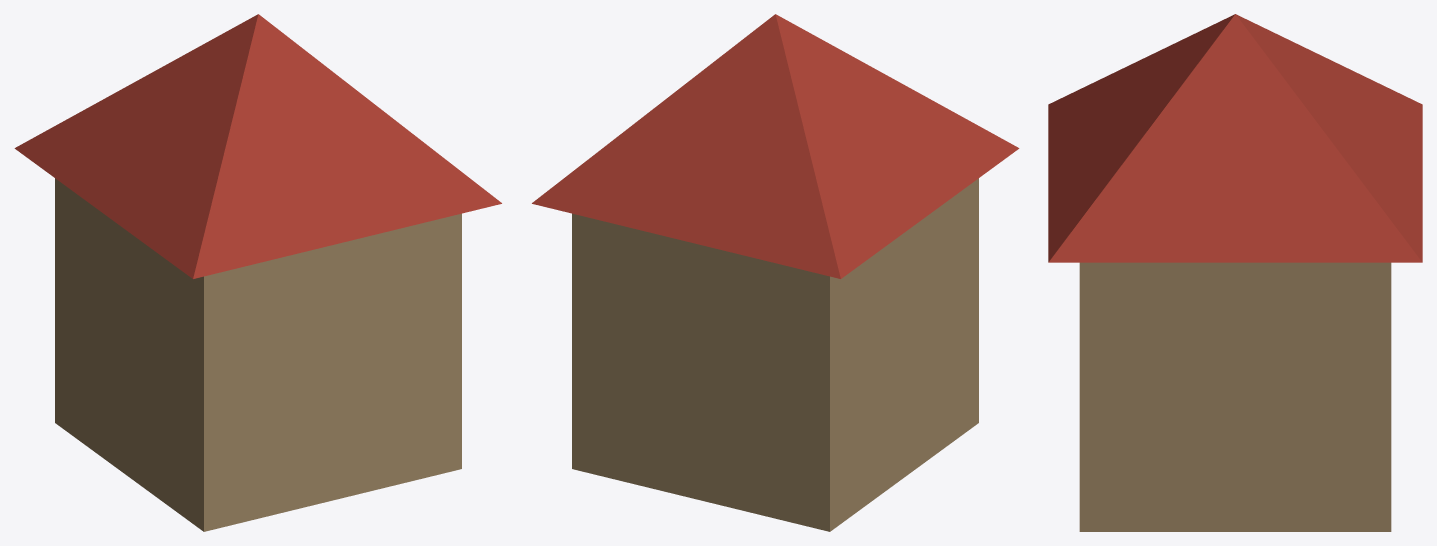
File: house.obj
The picture shows the model from 3 angles, left to right: view 1: azimuth 30°, elevation 25°; view 2: azimuth 150°, elevation 25°; view 3: azimuth 270°, elevation 25°; orthographic projection. The views are drawn at different scales.
Visible parts, largest first — view 1: house_walls, house_roof; view 2: house_walls, house_roof; view 3: house_walls, house_roof.
Part boxes in pixels (bbox=[...]): house_walls: bbox=[55, 178, 461, 531]; house_roof: bbox=[14, 14, 501, 278]; house_walls: bbox=[572, 178, 978, 531]; house_roof: bbox=[532, 14, 1019, 278]; house_walls: bbox=[1079, 262, 1391, 531]; house_roof: bbox=[1048, 14, 1422, 262].
Bounding box in the file's own units: 2.4 × 3.2 × 2.4.
